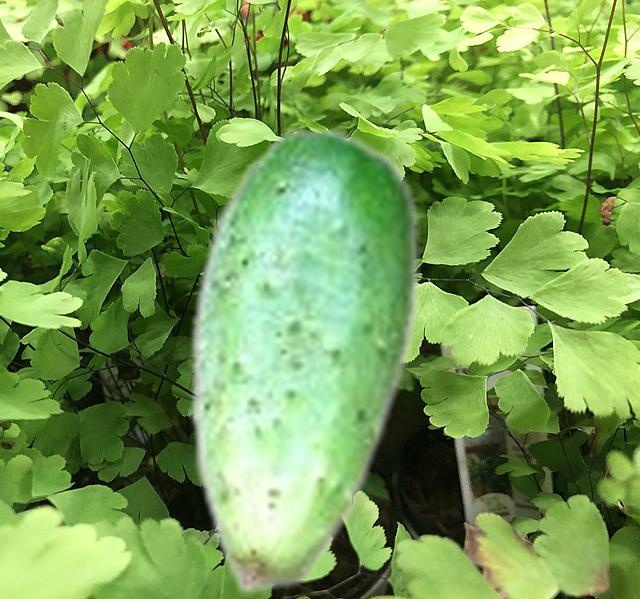cucumber: (188, 124, 419, 595)
